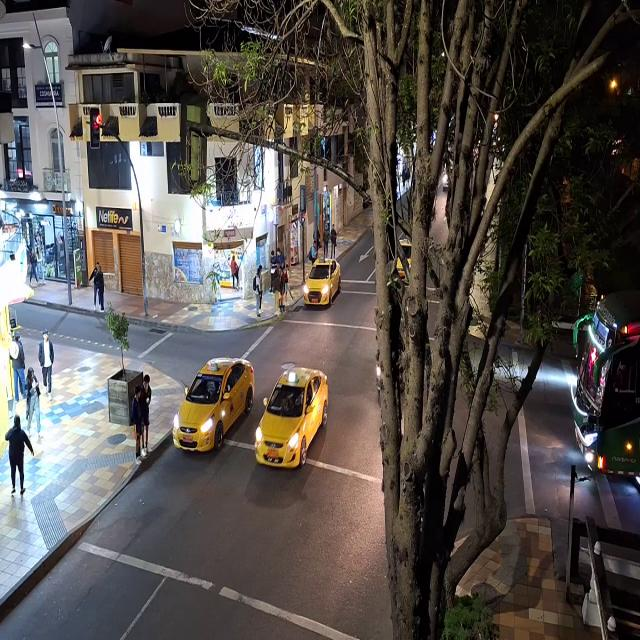BUS: (574, 295, 640, 478)
SED: (174, 359, 254, 455), (256, 369, 325, 465), (302, 258, 342, 309)
